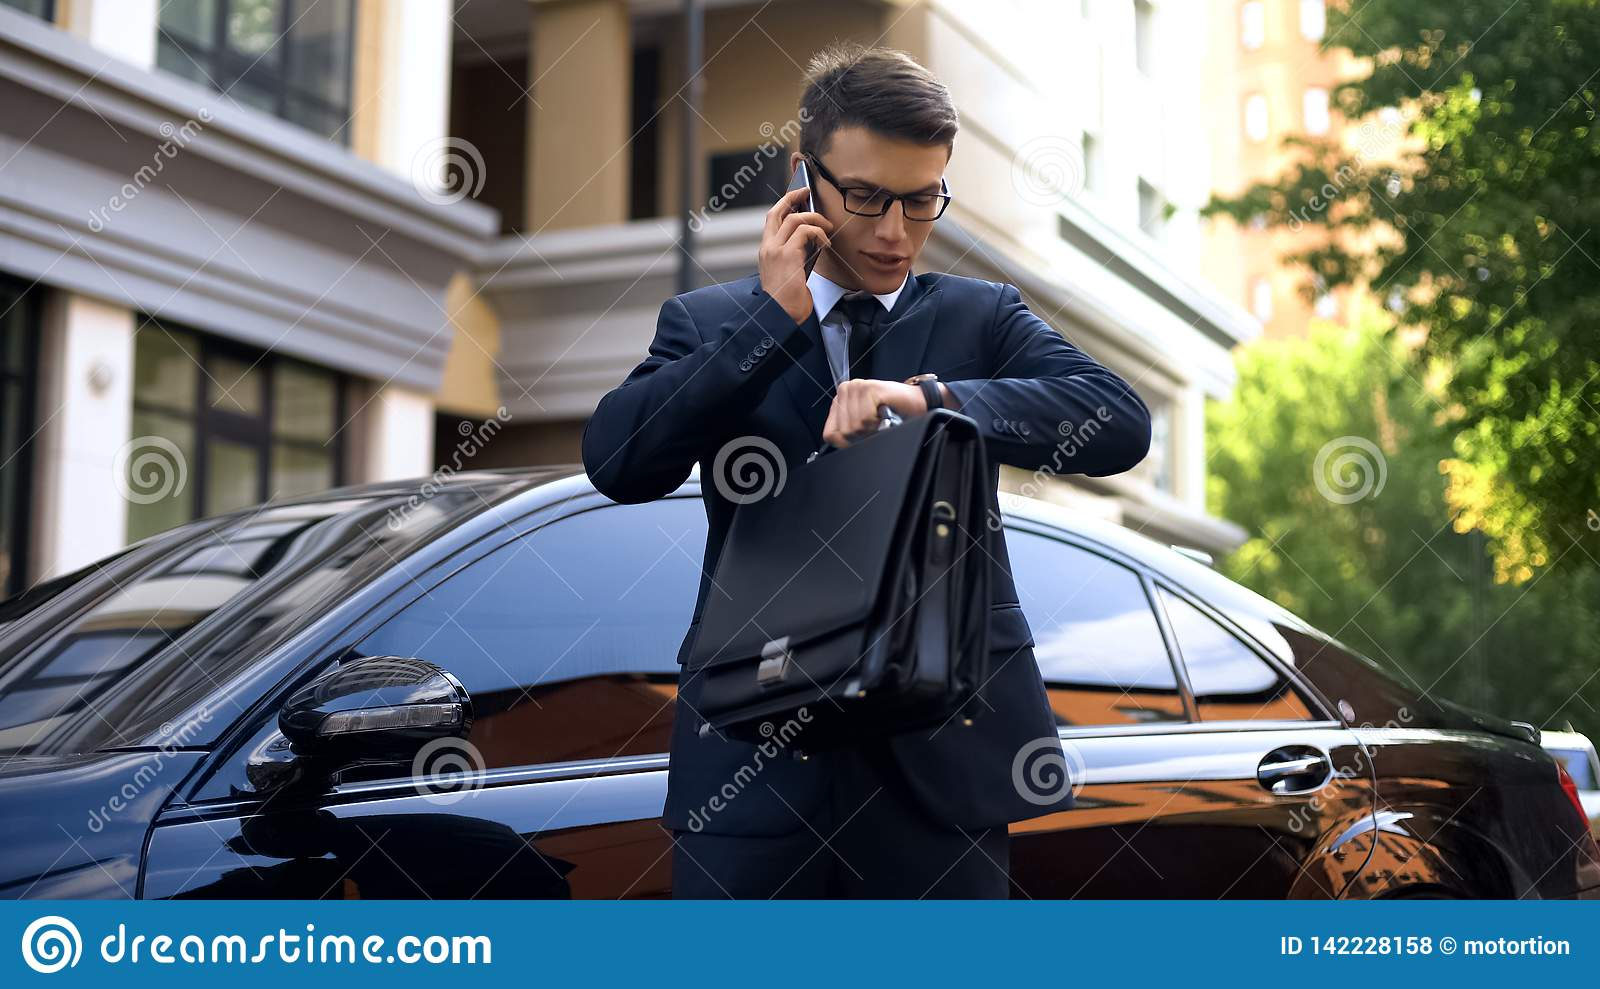phone: (779, 161, 823, 292)
talk: (757, 151, 943, 325)
